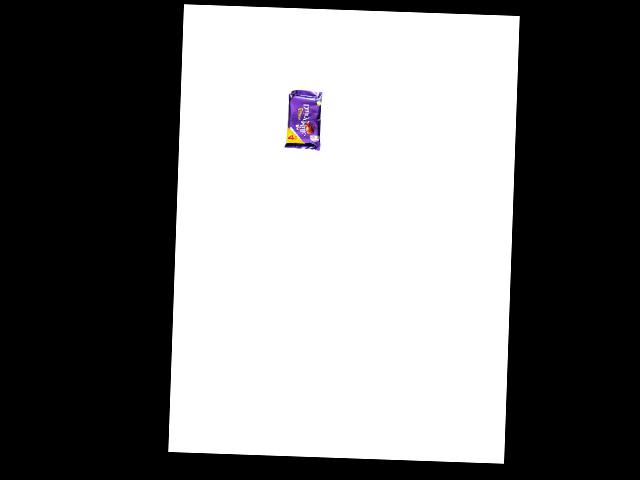chocolate: (284, 87, 327, 157)
